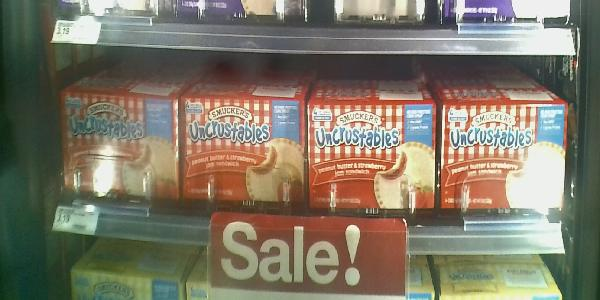icecream: (180, 89, 308, 215), (440, 96, 569, 216), (58, 86, 182, 210), (304, 97, 437, 212)
